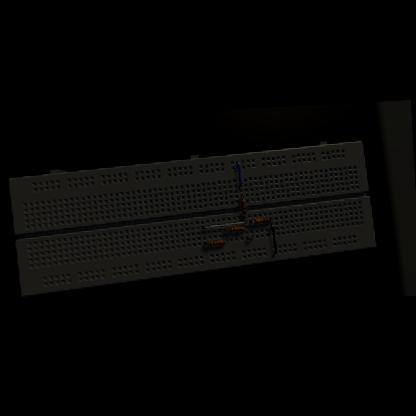breadboard: (7, 139, 378, 298)
resistor: (254, 217, 269, 223), (240, 200, 246, 214), (228, 226, 242, 232), (208, 240, 223, 245)
wire: (202, 222, 245, 228), (270, 224, 277, 254), (236, 162, 241, 187), (245, 237, 252, 239), (242, 214, 244, 218), (204, 242, 208, 244), (240, 196, 242, 199), (223, 240, 226, 242), (249, 221, 254, 222), (243, 226, 245, 228), (223, 230, 227, 231), (270, 218, 272, 219)
